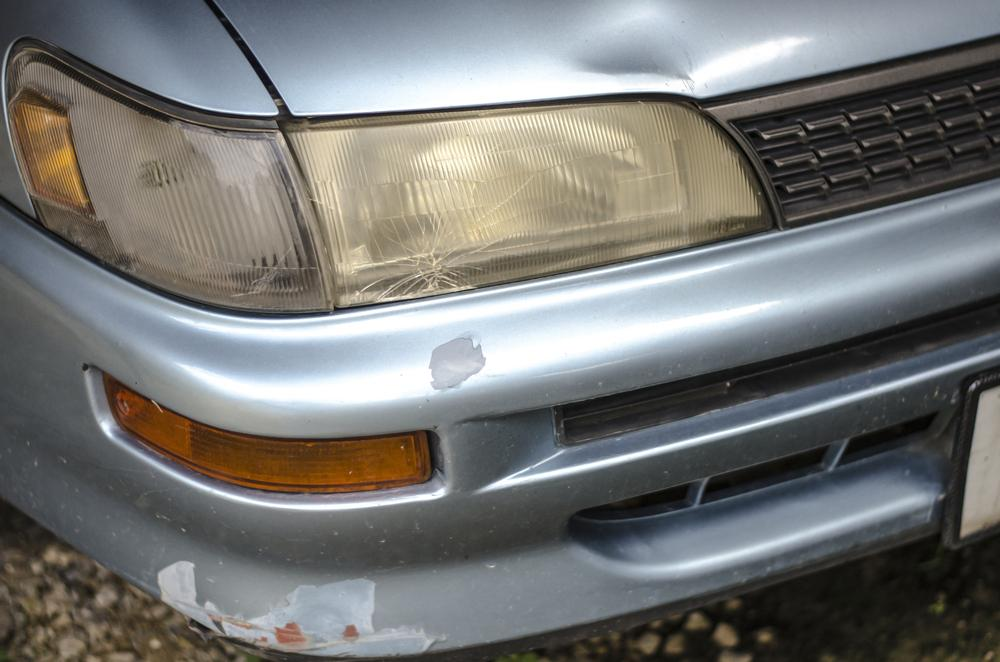dent: (537, 0, 827, 83)
lamp broken: (285, 98, 778, 313)
scratch: (157, 553, 445, 662), (426, 329, 493, 395)
